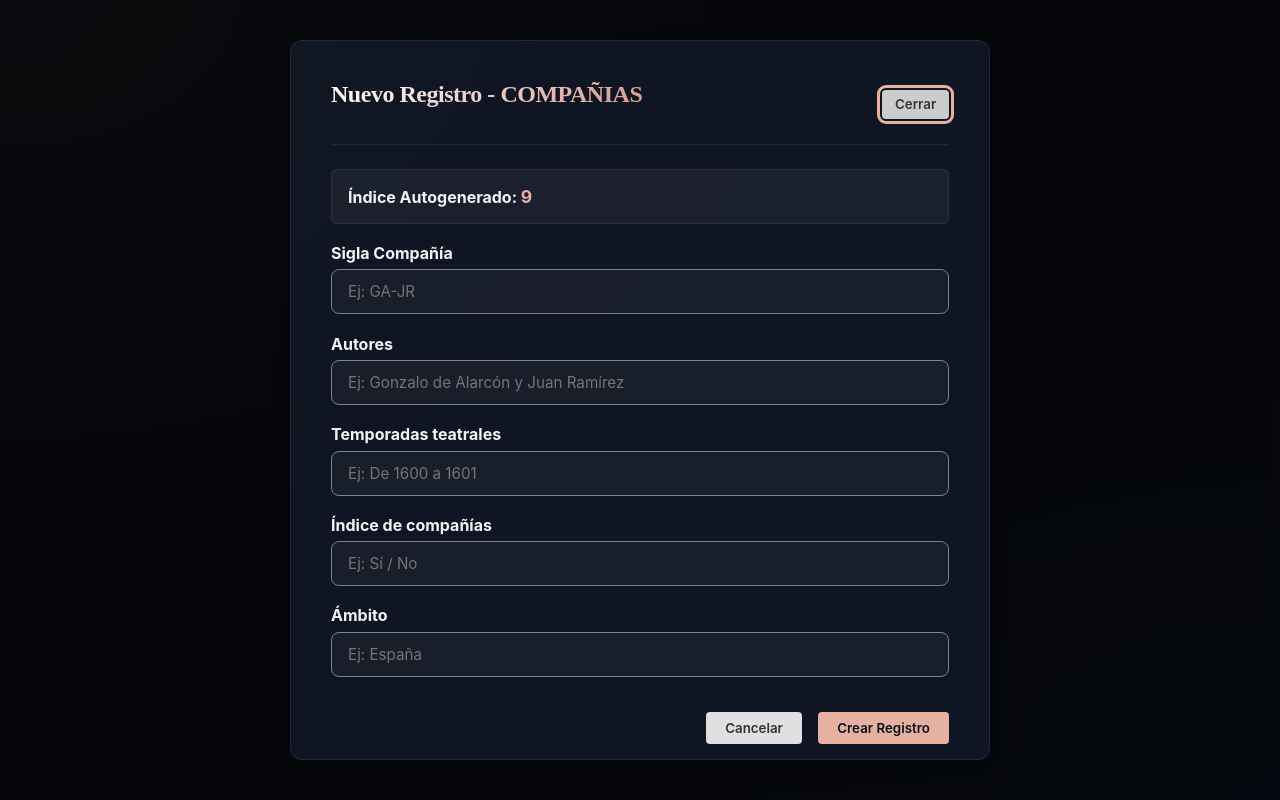
Test case: alta de compañías: sigla › bloquea una sigla duplicada y marca el campo
Type "ga-jr " into the field with placeholder "Ej: GA-JR".
click(640, 292); type("ga-jr ")  # box [331,270,949,314]
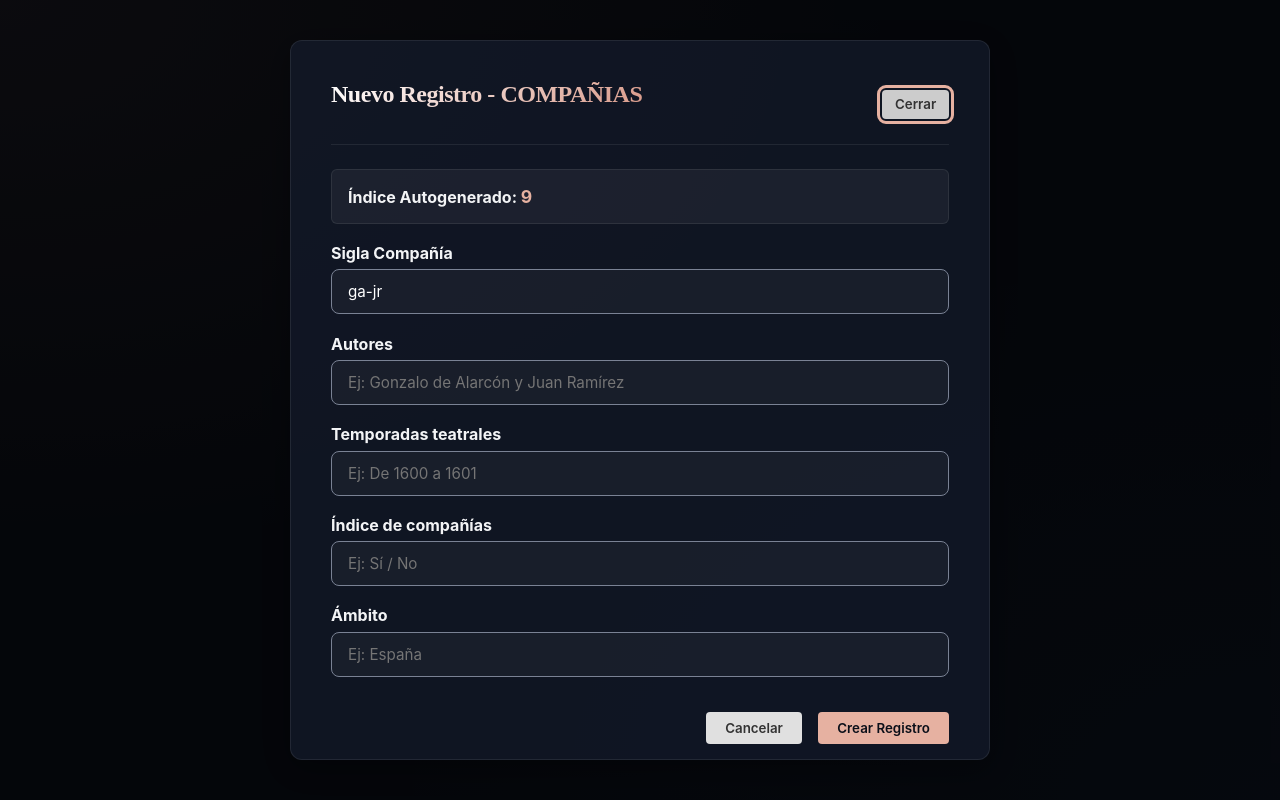
Submit the form, box [331,169,949,744]
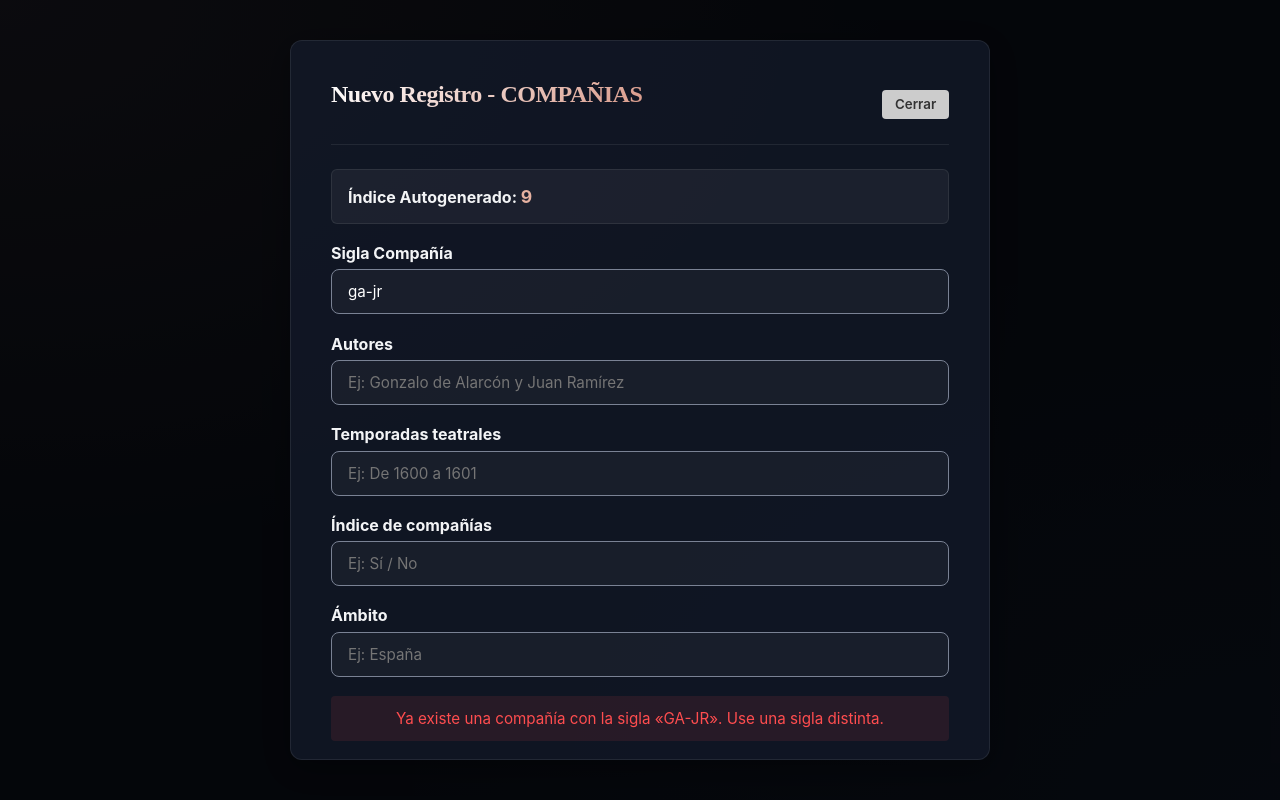
expect the message reads "Ya existe una compañía con la sigla «GA-JR». Use una sigla distinta.": met, box [396,709,884,728]
